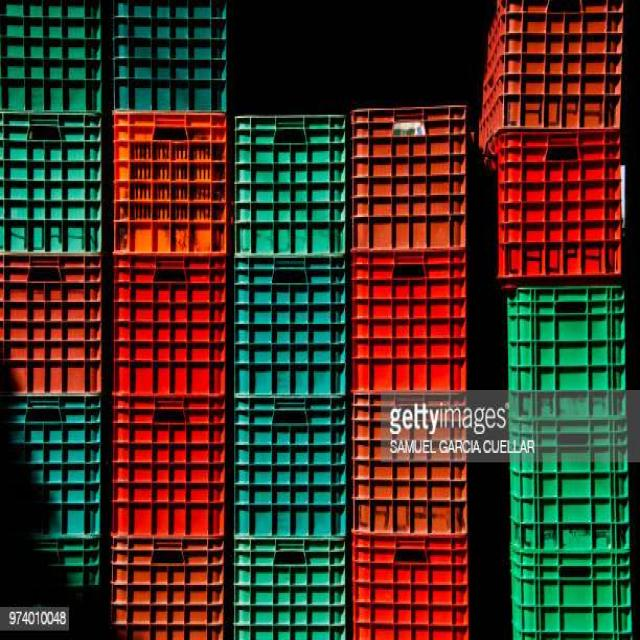basket: (509, 390, 638, 639), (496, 128, 622, 278), (351, 250, 468, 393), (353, 107, 467, 250), (113, 112, 229, 252), (355, 395, 467, 535), (113, 398, 225, 537), (235, 115, 346, 255), (235, 258, 346, 397), (235, 398, 345, 537), (115, 256, 224, 395), (0, 253, 102, 394), (0, 112, 102, 251), (0, 396, 99, 537), (509, 286, 628, 392), (353, 535, 467, 640), (111, 539, 224, 640), (235, 539, 346, 640)
